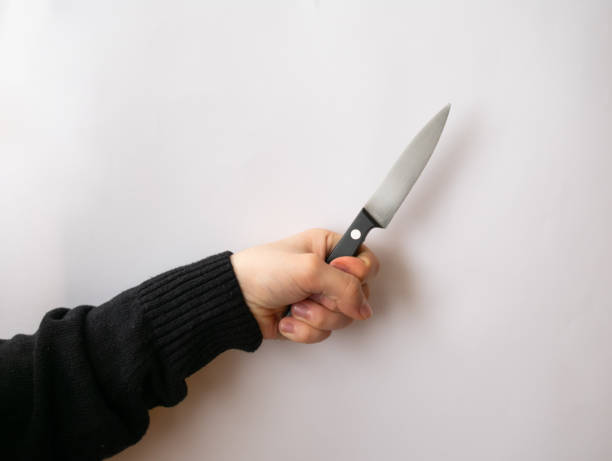knife: (276, 100, 453, 338)
